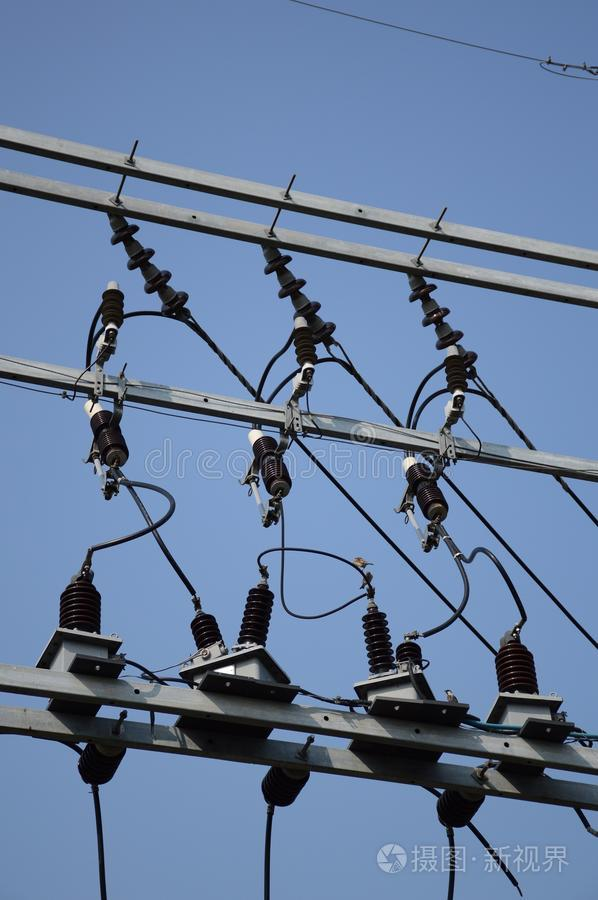insulator: (107, 223, 190, 318), (263, 253, 337, 343), (405, 281, 474, 372)
